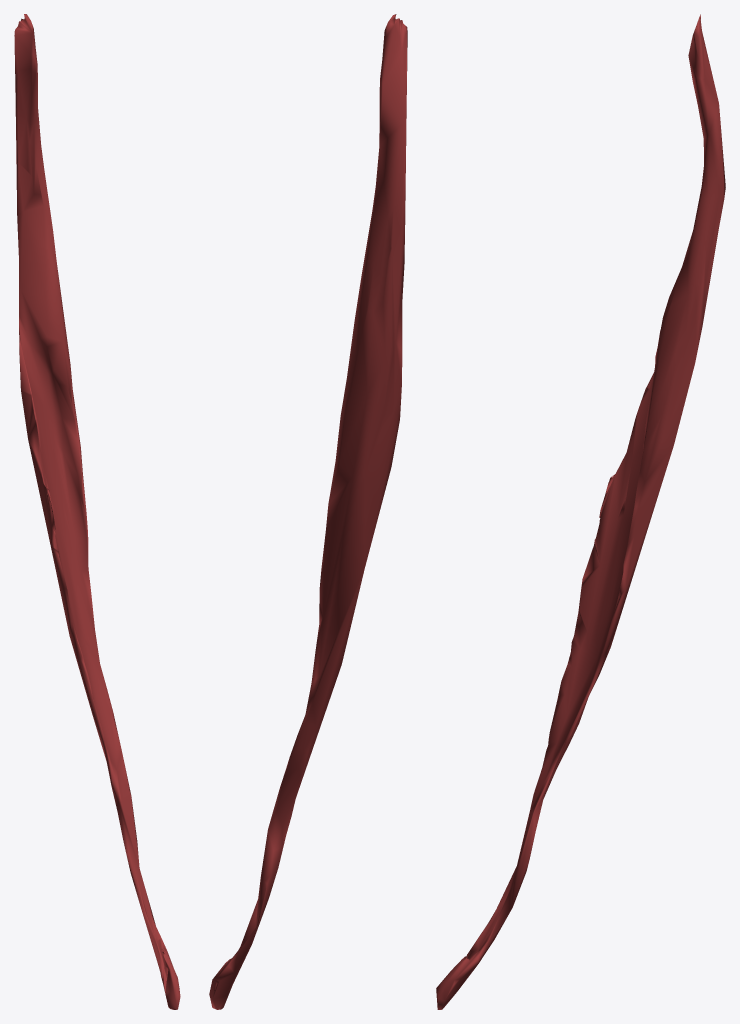
File: humeral-head-of-extensor-carpi-ulnaris-l.glb
3 renders of one model, left to right at view 1: azimuth 30°, elevation 25°; view 2: azimuth 210°, elevation 25°; view 3: azimuth 270°, elevation 25°, orthographic. The views are drawn at different scales.
Visible parts, largest first — view 1: Humeral head of extensor carpi ulnaris.l; view 2: Humeral head of extensor carpi ulnaris.l; view 3: Humeral head of extensor carpi ulnaris.l.
Boxes of the visible parts, bbox=[...] form: Humeral head of extensor carpi ulnaris.l: bbox=[14, 14, 180, 1009]; Humeral head of extensor carpi ulnaris.l: bbox=[209, 14, 407, 1009]; Humeral head of extensor carpi ulnaris.l: bbox=[436, 14, 725, 1009].
Size of the model in its own units: 0.0191 by 0.2889 by 0.0774.
